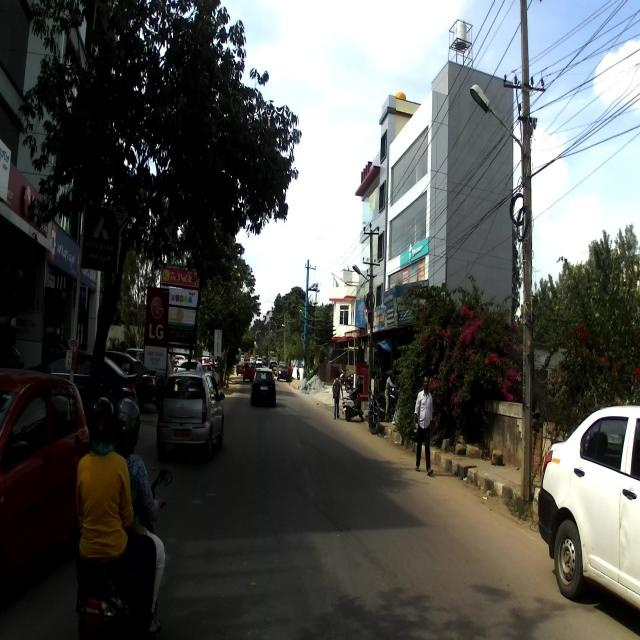car: (537, 401, 640, 613), (157, 367, 224, 460), (250, 361, 276, 408)
